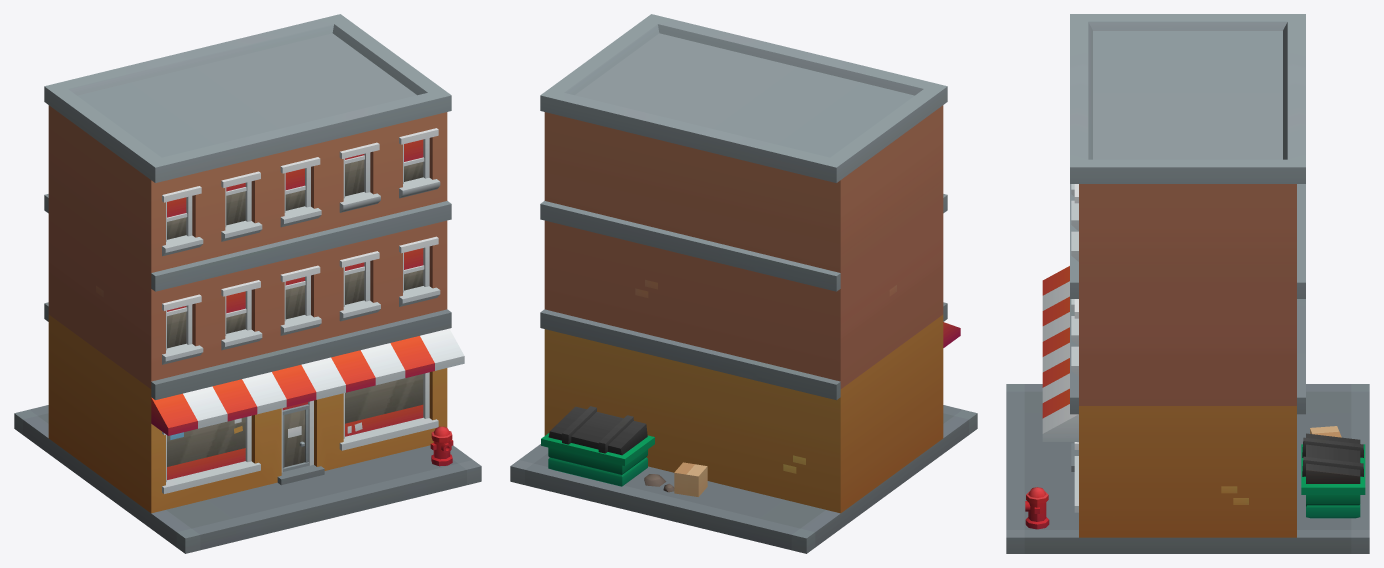
The model's file is b_kay1.glb.
The picture shows the model from 3 angles, left to right: view 1: azimuth 30°, elevation 25°; view 2: azimuth 150°, elevation 25°; view 3: azimuth 270°, elevation 25°; orthographic projection. The views are drawn at different scales.
Visible parts, largest first — view 1: building_E; view 2: building_E; view 3: building_E.
Part boxes in pixels (box(x1,y1,x2,y2)): building_E: box(14, 14, 481, 553); building_E: box(510, 14, 977, 553); building_E: box(1006, 14, 1369, 553).
Bounding box in the file's own units: 2.01 × 2.35 × 2.
1 material, 1 textured.
